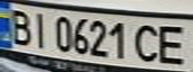0: (51, 14, 75, 53)
1: (106, 19, 130, 61)
2: (87, 17, 109, 59)
6: (69, 16, 90, 55)
B: (3, 6, 36, 46)
C: (130, 20, 166, 64)
E: (154, 21, 193, 66)
I: (27, 9, 54, 48)
